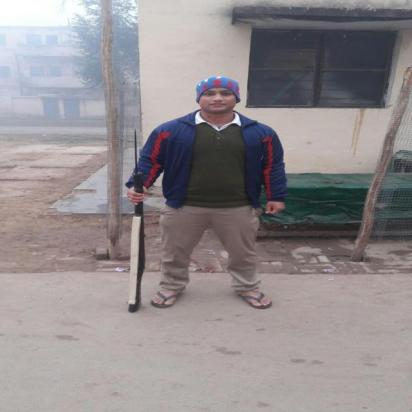Gun: (125, 127, 150, 314)
